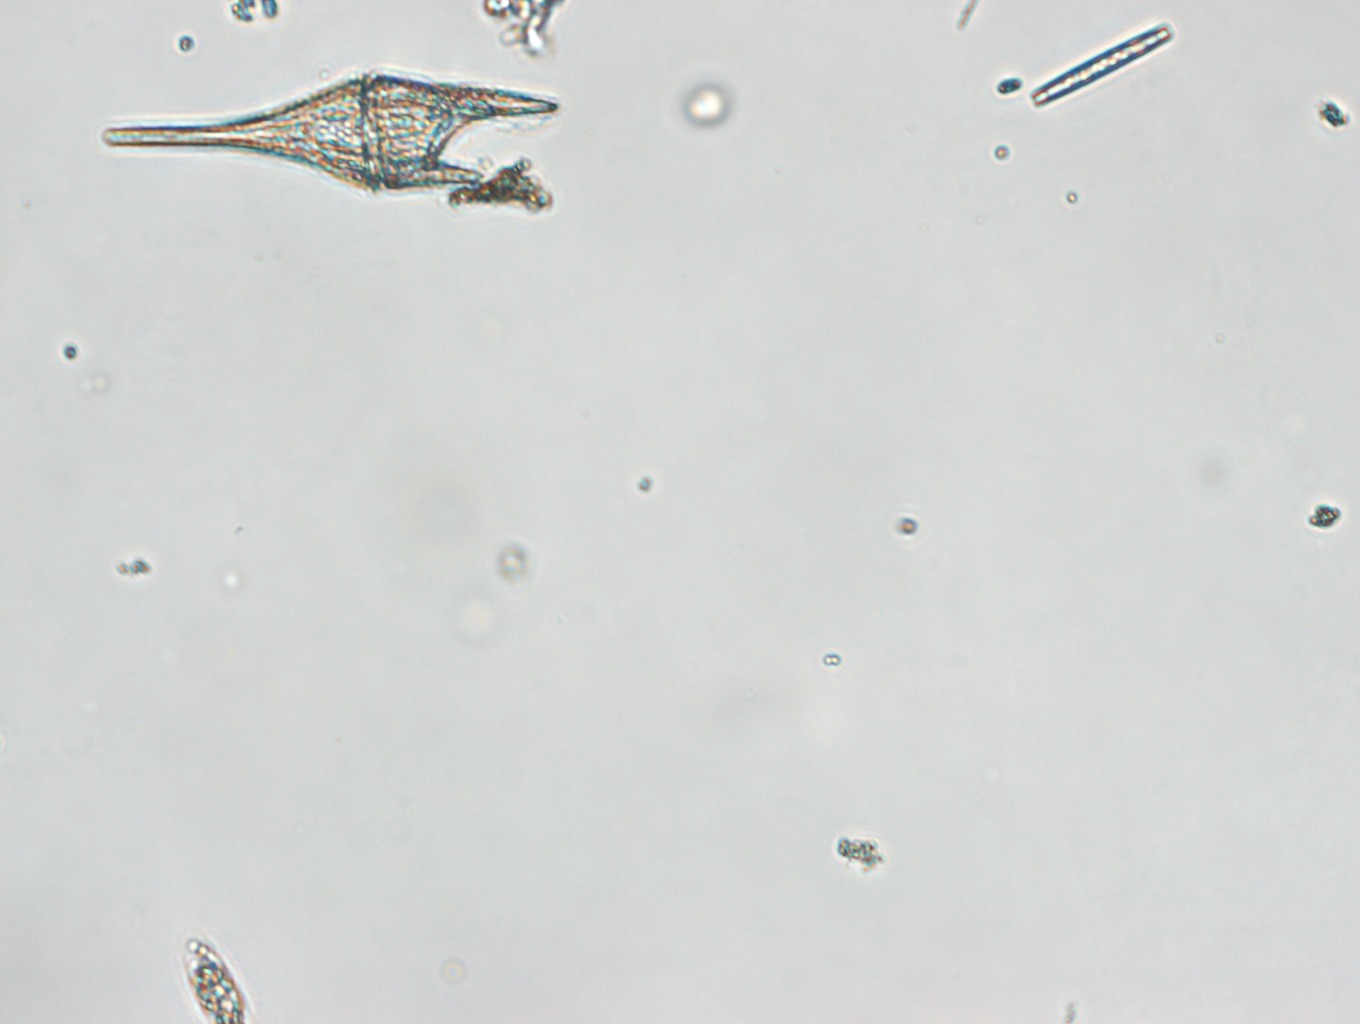ceratium furca: (99, 56, 563, 202)
